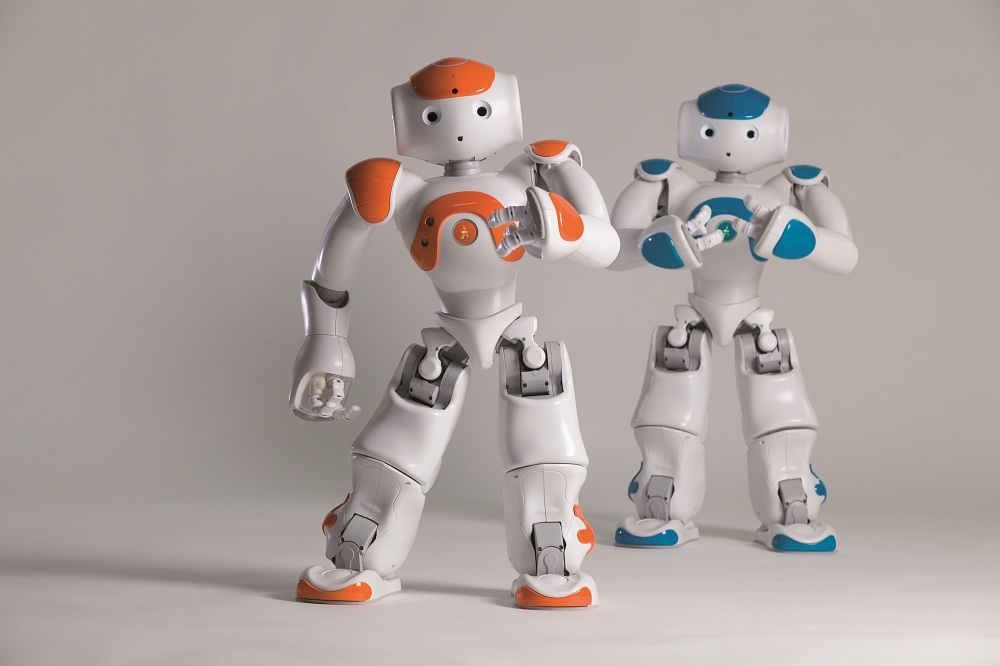nao: (279, 36, 640, 635), (599, 72, 859, 576)
